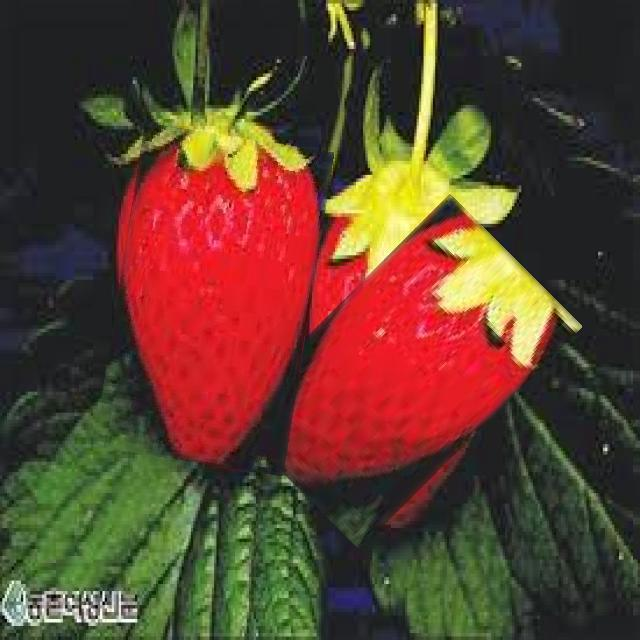strawberry: (268, 204, 540, 540), (106, 130, 322, 470)
